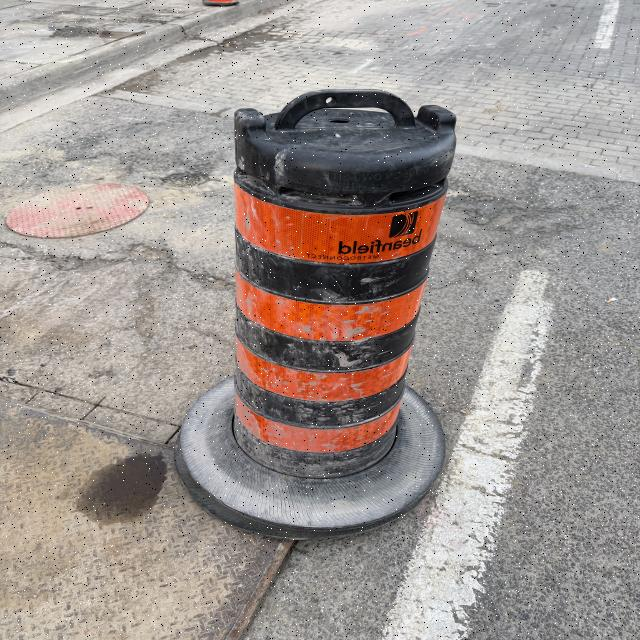Teraffic Barrel: (177, 90, 456, 538), (202, 0, 239, 6)
